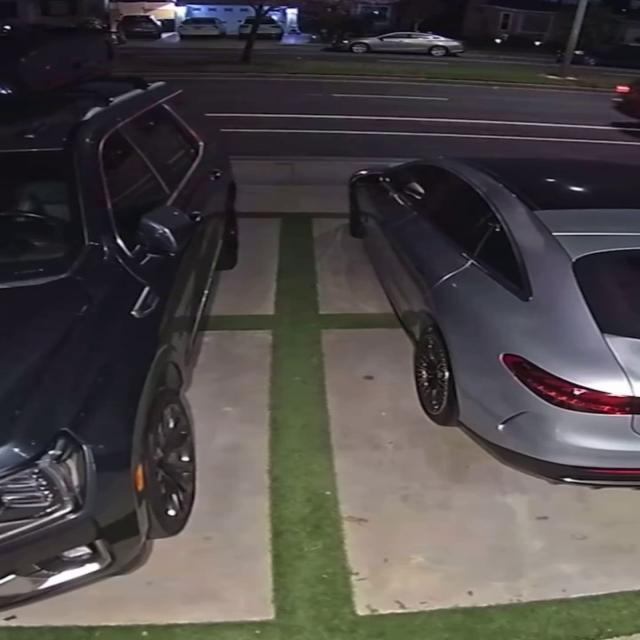Theft - Alert: (349, 156, 639, 488), (612, 78, 639, 137)
